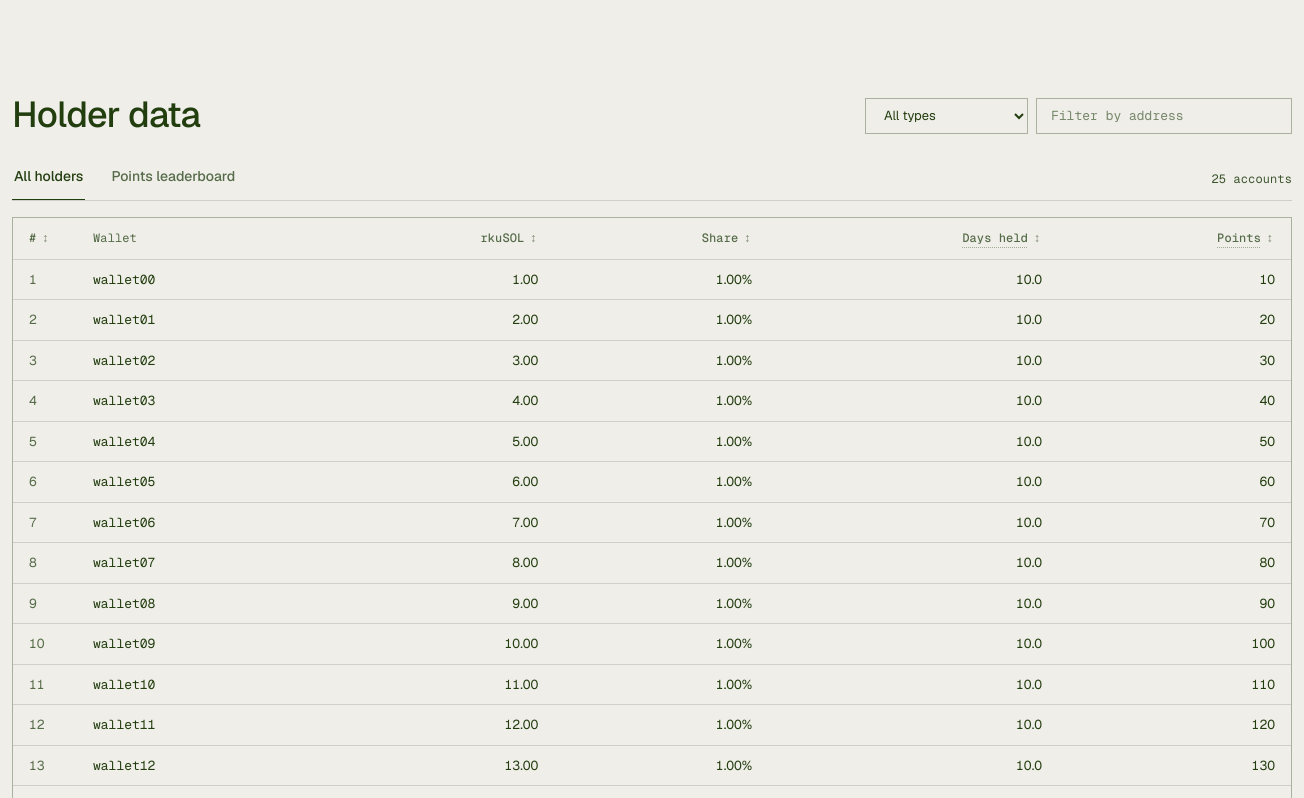
Test: holder data › sorts the whole list, not just the visible page
Click the button "rkuSOL ↕" at (509, 238), box [480,230,538,247]
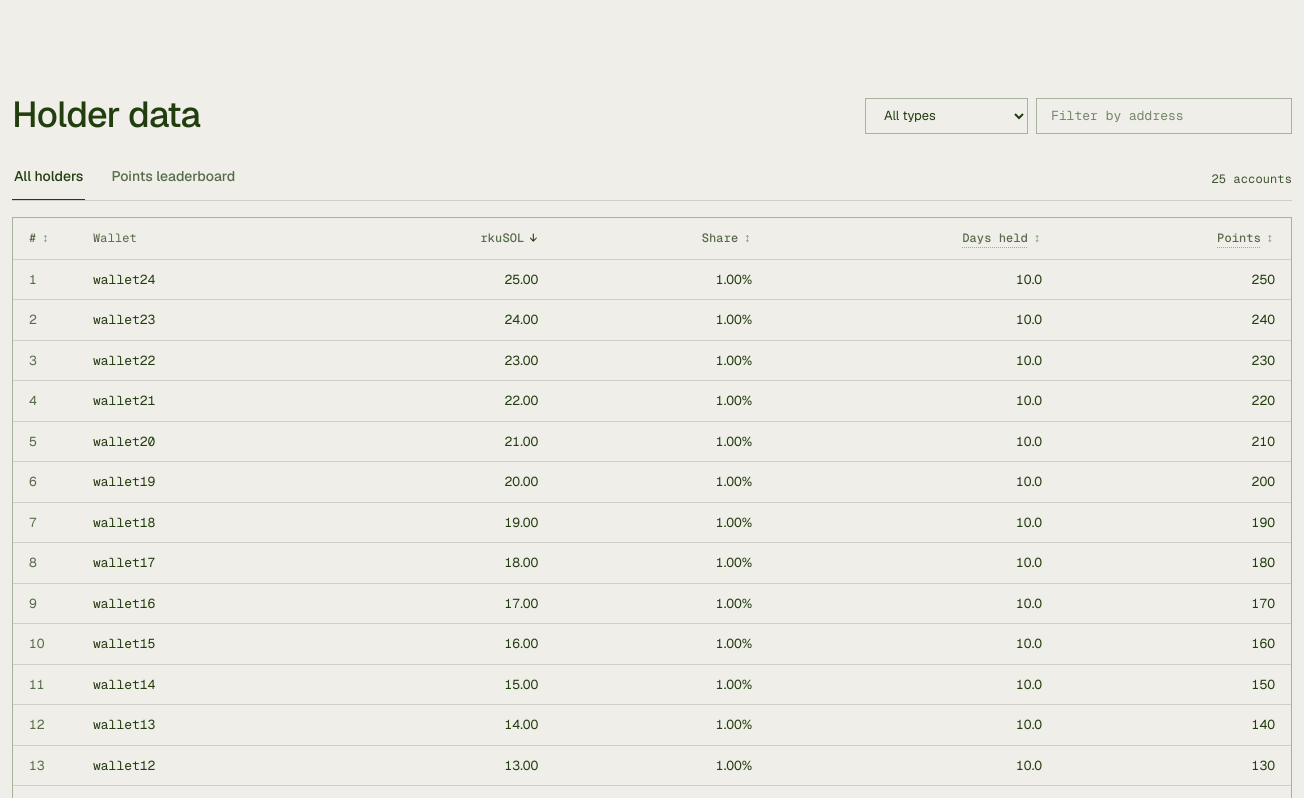
Expected: the link "wallet24" is shown, [93,271,155,288]
